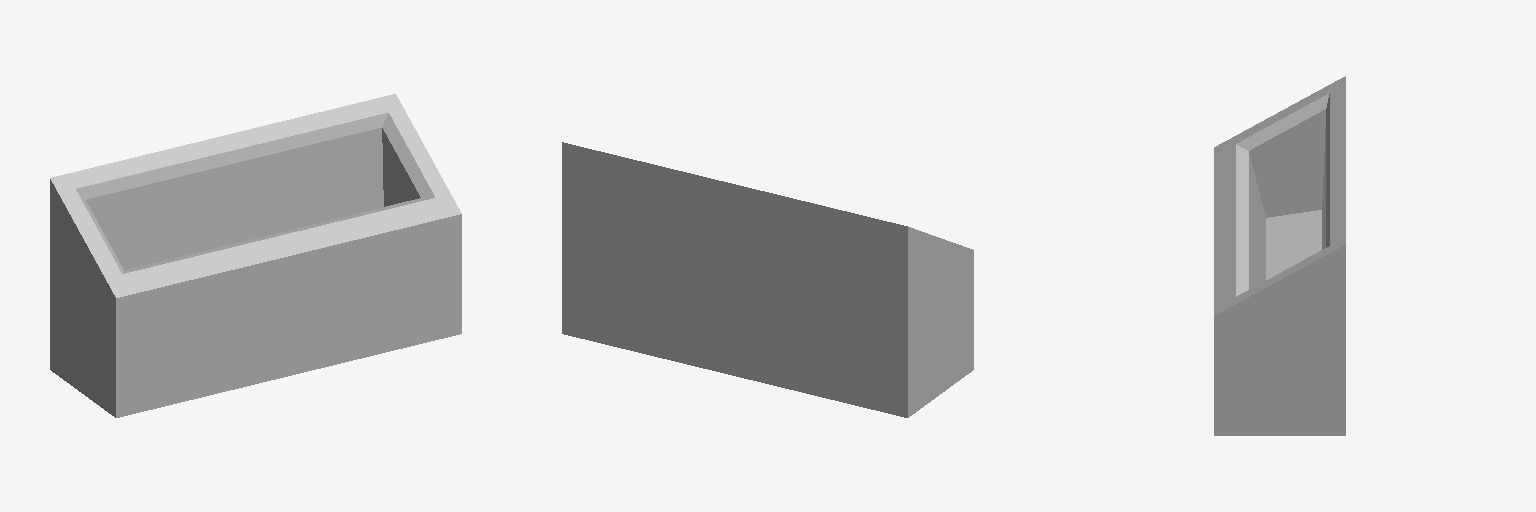
Rendered from DepoBox.obj.
The picture shows the model from 3 angles: view 1: azimuth 30°, elevation 25°; view 2: azimuth 150°, elevation 25°; view 3: azimuth 270°, elevation 25°; orthographic projection.
Parts seen in each view (by area): view 1: pCube3; view 2: pCube3; view 3: pCube3.
Part boxes in pixels (x1,y1,x2,y2): pCube3: (50,94,461,417); pCube3: (562,142,973,417); pCube3: (1214,76,1345,435).
Size of the model in its own units: 3.02 by 1.6 by 1.